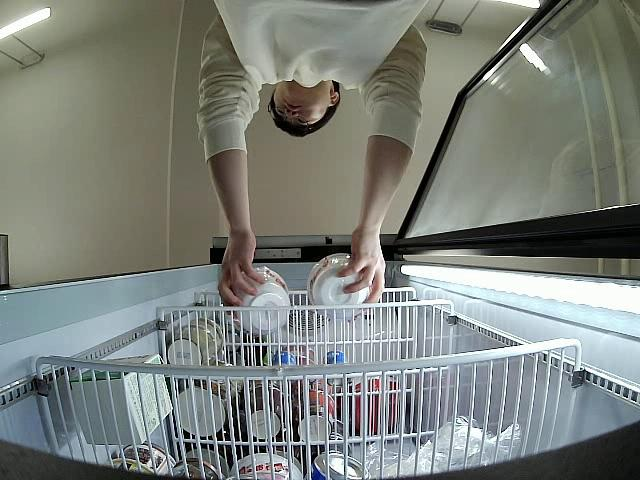00_hand: (339, 226, 385, 303), (220, 231, 265, 305)
09_yukGaeJang: (309, 255, 370, 321), (235, 268, 291, 335)
